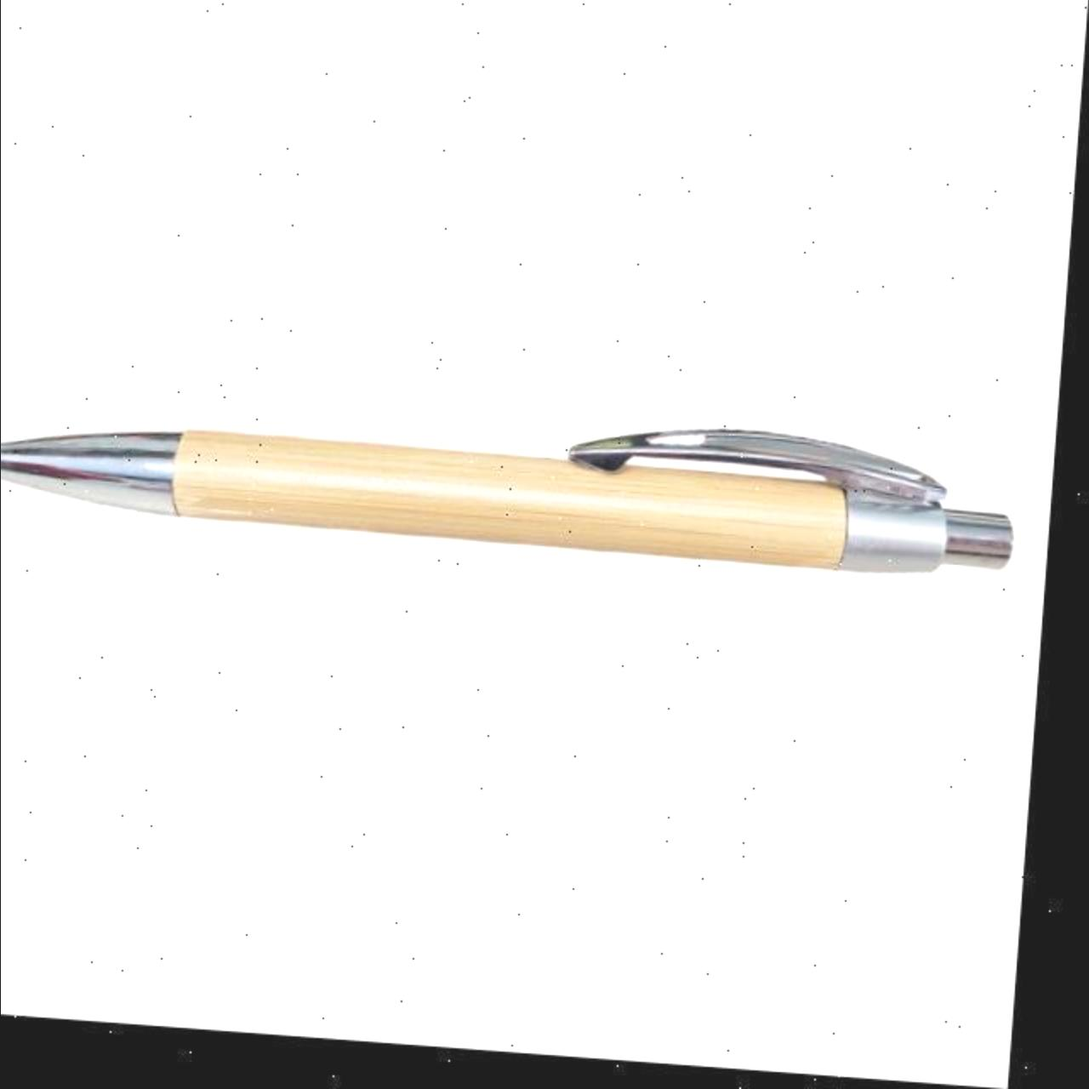pen: (0, 386, 1029, 589)
